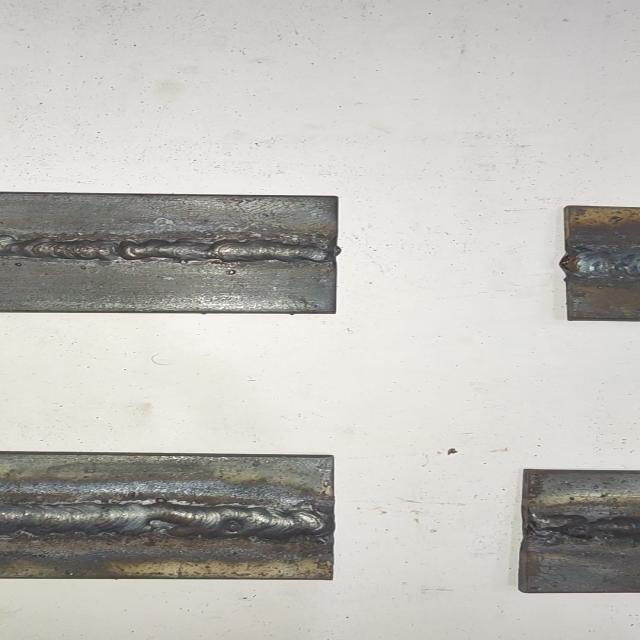Bad Weld: (0, 496, 331, 544), (523, 516, 640, 551)
Defect: (525, 512, 640, 548), (132, 508, 200, 548)
Good Weld: (0, 234, 335, 267), (568, 245, 640, 279)
